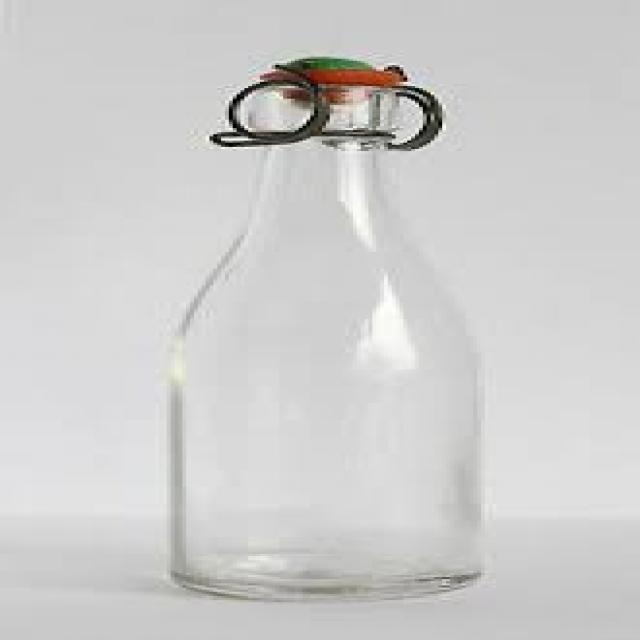Glass-Non-Biodegradable but Recyclable-: (171, 80, 486, 606)
